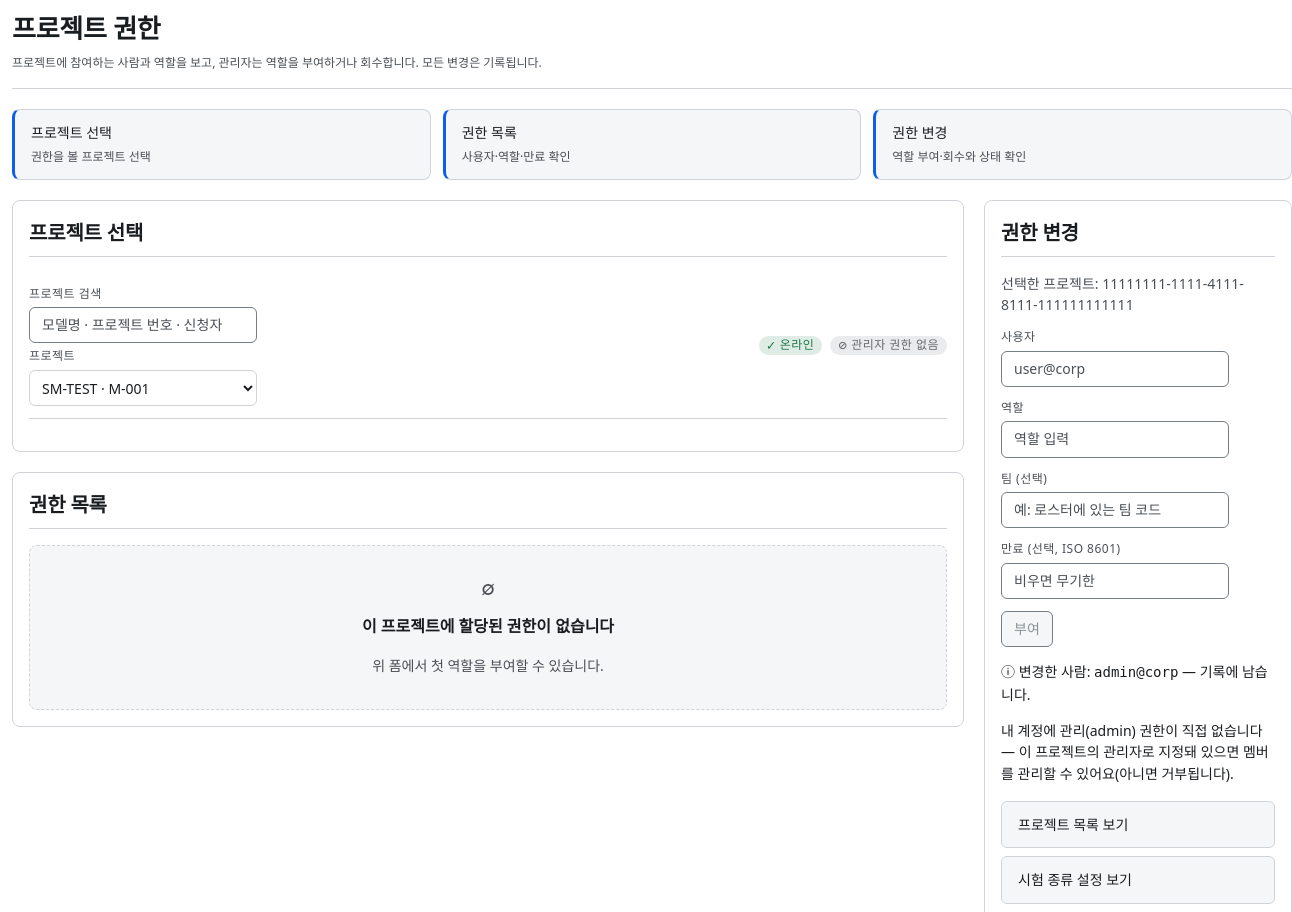
Scenario: MembershipRoute RBAC gating › surfaces a backend 403 as the forbidden membership error (membership lacking too)
Expected: the form with test id "membership-assign-form" is shown, [1001,328,1275,706]
Type "bob@corp" into the field with test id "assign-user-input" at [1115, 369], box [1001,351,1229,387]
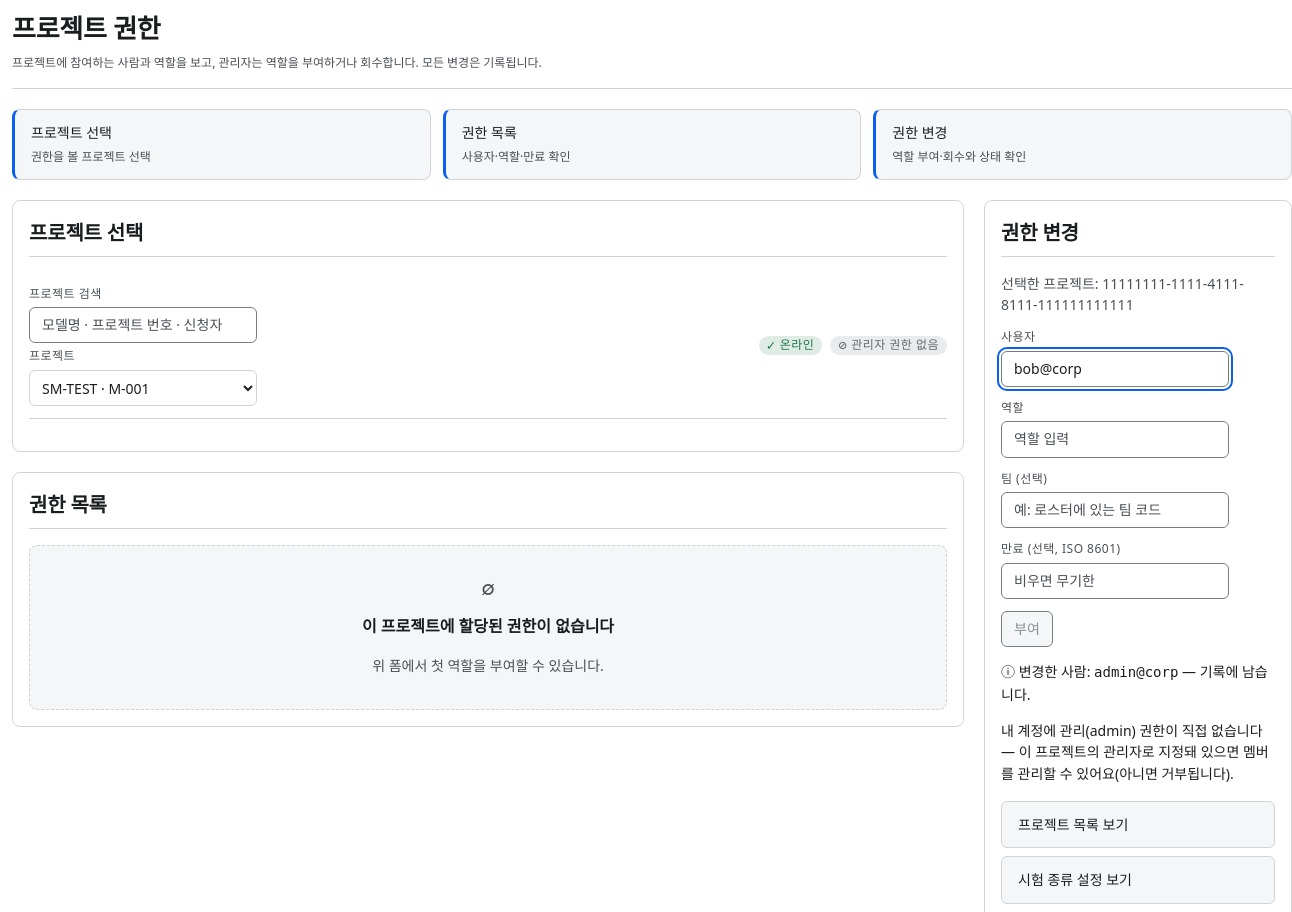
Type "project_viewer" into the field with test id "assign-role-input" at [1115, 440], box [1001,421,1229,458]
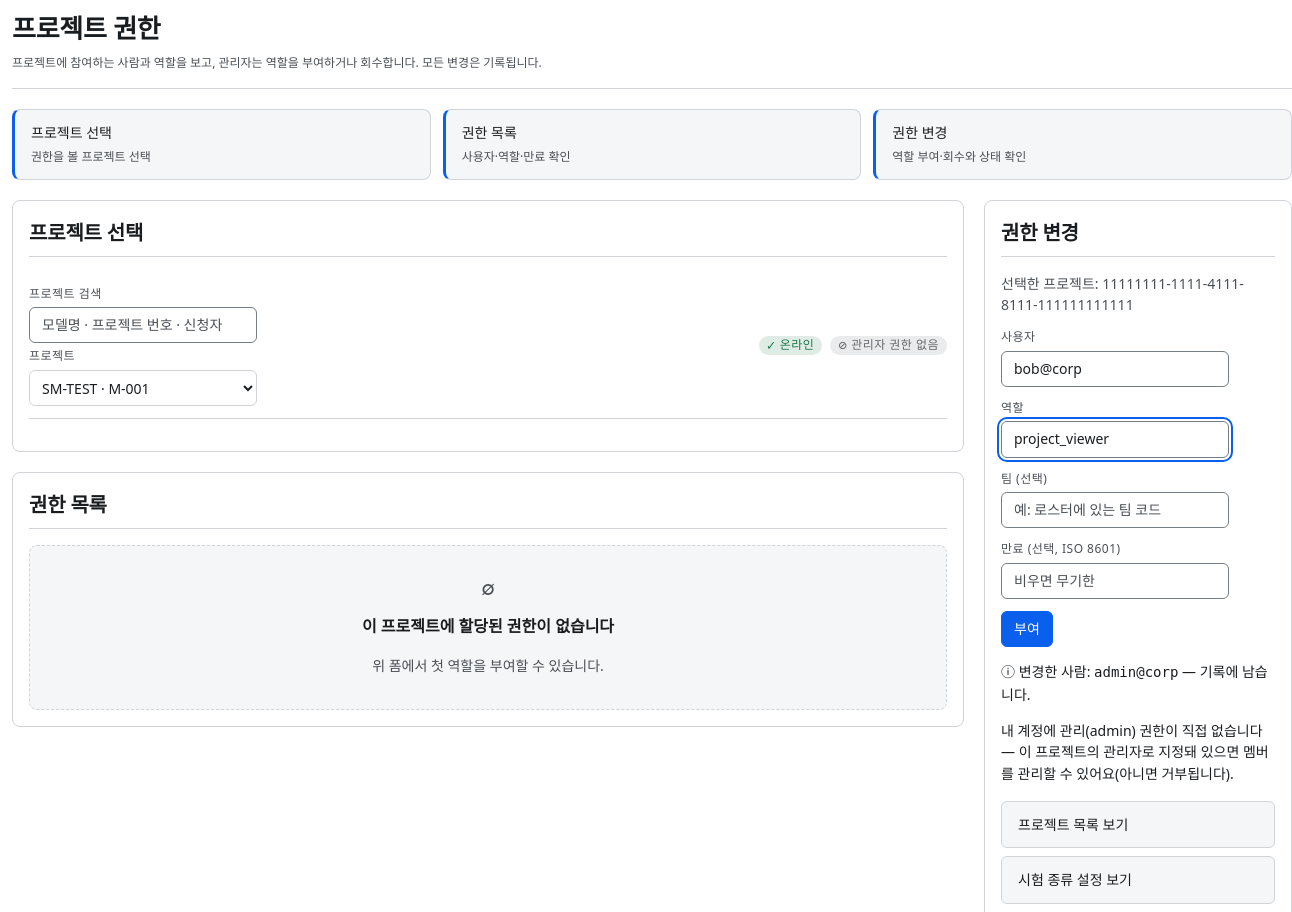
Click the button with test id "assign-submit" at [1027, 629], box [1001,611,1053,647]
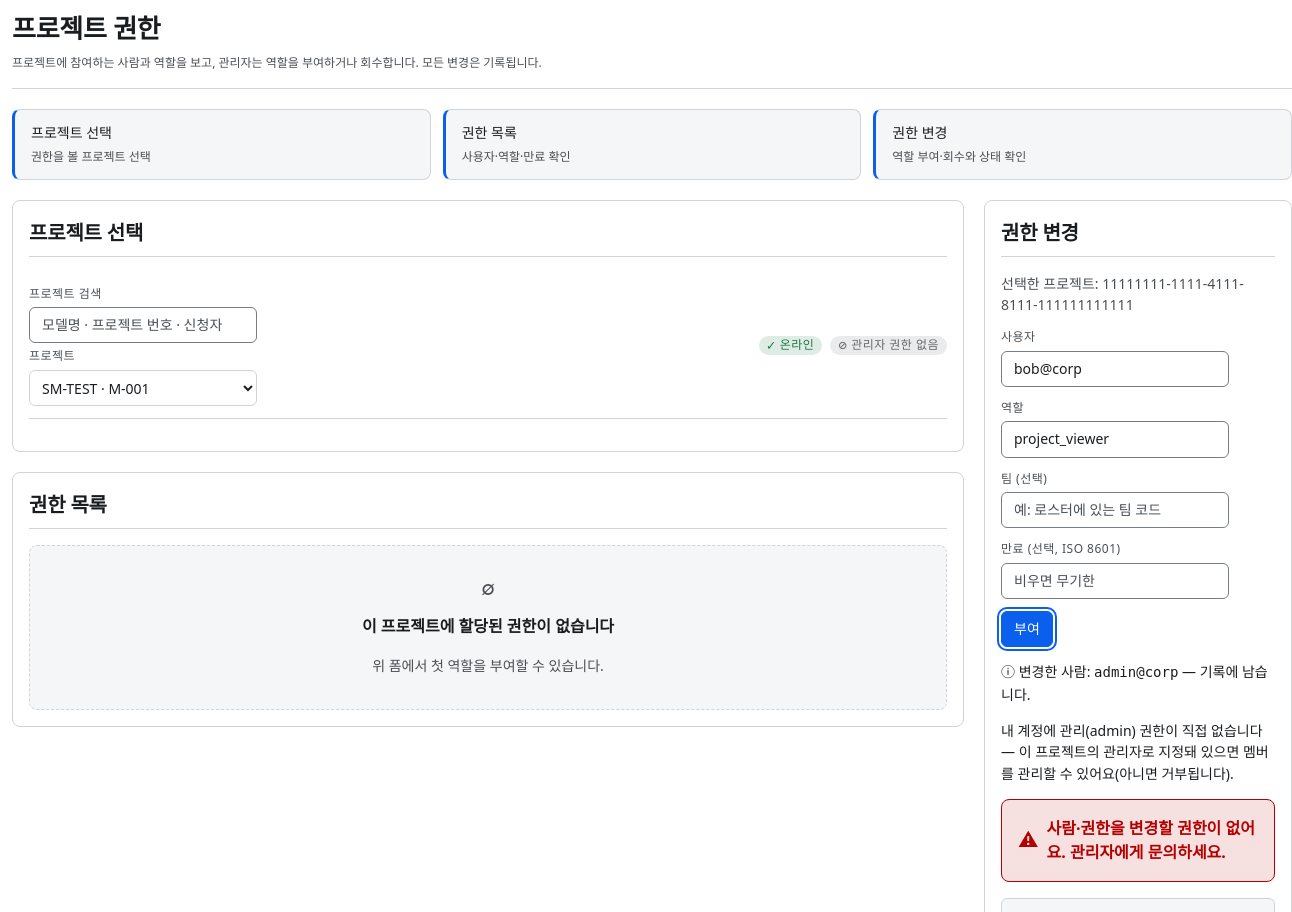
Expected: the message with test id "membership-write-error" shows "권한", [1001,799,1275,882]
